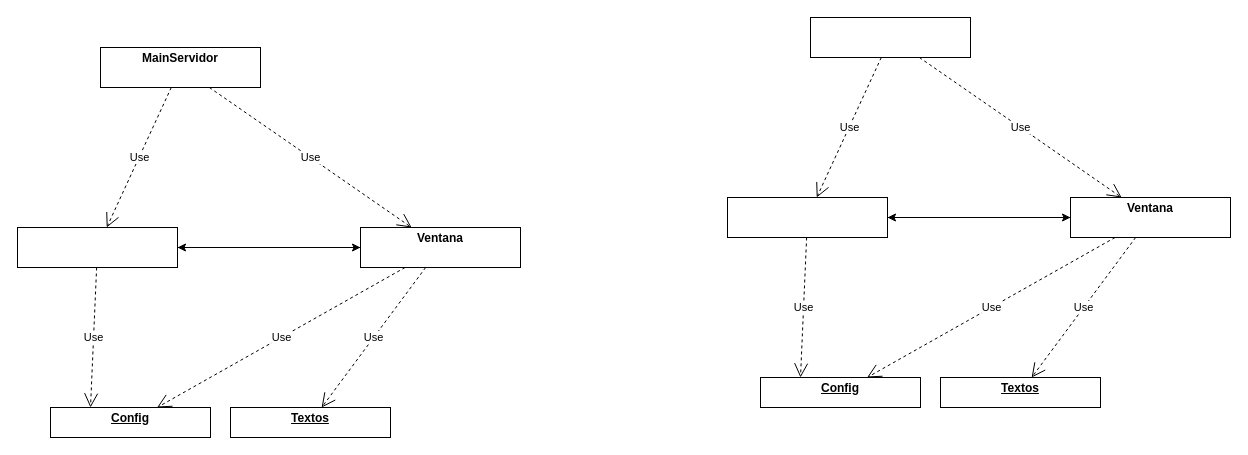
The diagram is 1248 pixels wide and 455 high, and some of its shapes have lost their labels. The box of each missing label's shape, as (x1, y1, x2, y2) in pixels:
Cliente: (726, 196, 888, 238)
MainCliente: (810, 16, 970, 58)
Servidor: (16, 226, 178, 268)
